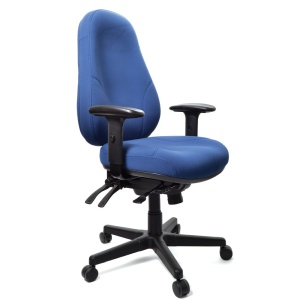chair: (76, 9, 233, 298)
